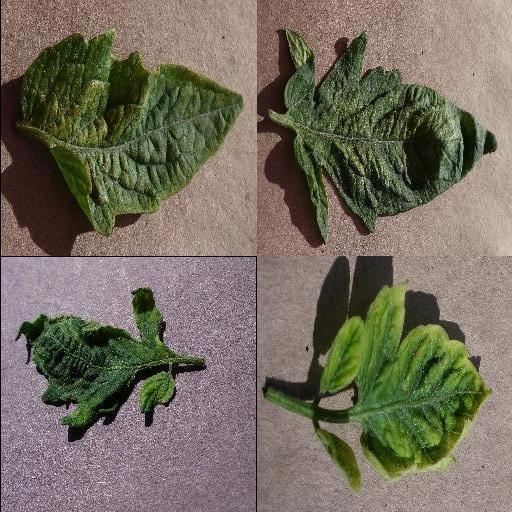Mosaic Virus: (13, 286, 177, 426)
Spider Mites: (281, 30, 497, 246), (17, 31, 243, 237)
Yellow Leaf Curl Virus: (359, 288, 493, 482), (316, 315, 368, 395), (314, 432, 362, 494)
